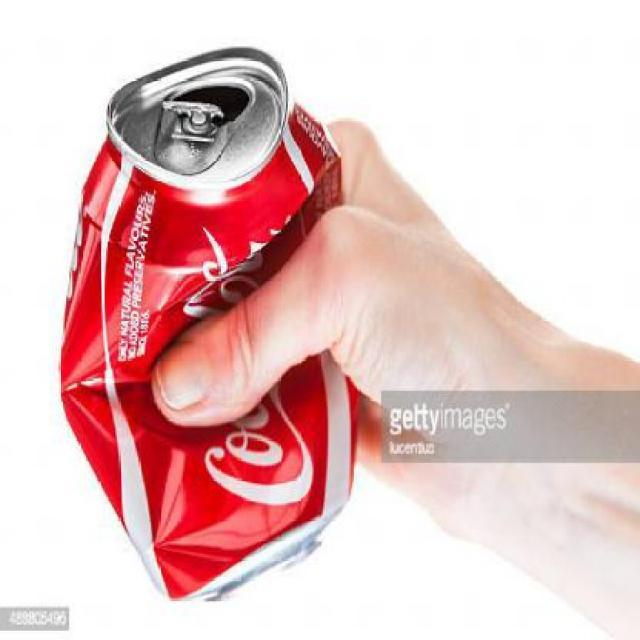can: (54, 34, 380, 620)
